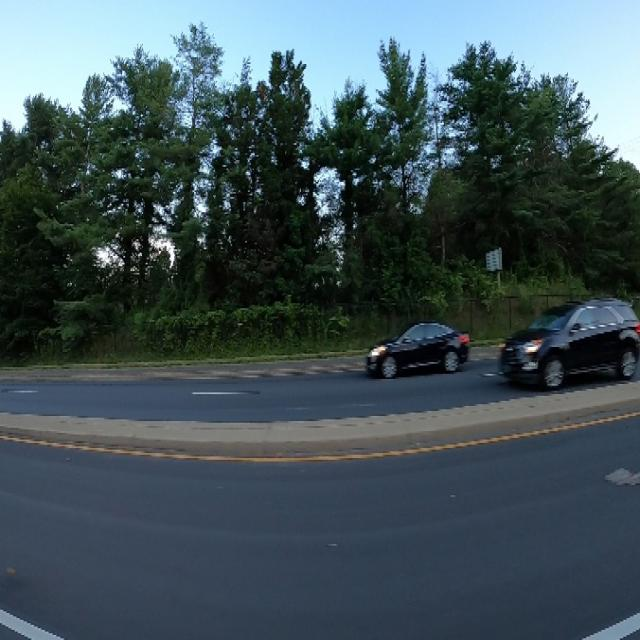cars: (493, 291, 640, 396), (364, 314, 474, 385)
